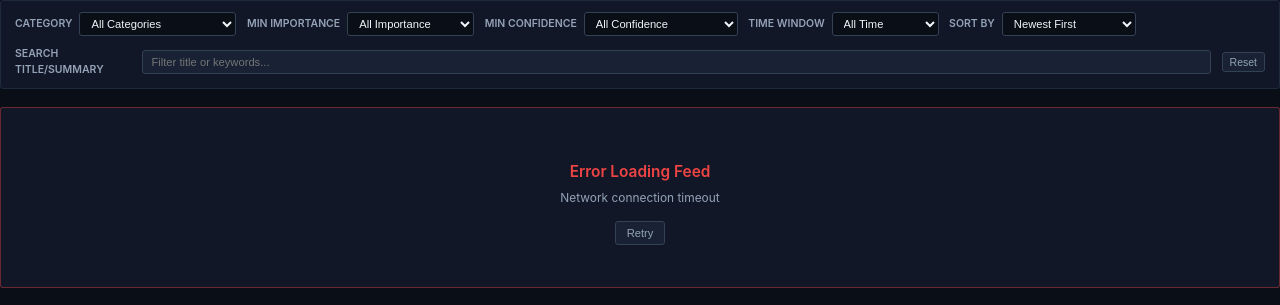
UI Resilience & State Tests › renders error state on API network failure and provides retry button
Expected: the text "Error Loading Feed" is shown, x1=570 y1=162 x2=710 y2=181
Expected: the text "Network connection timeout" is shown, x1=560 y1=190 x2=720 y2=205
Click the button "Retry". click: (640, 233)
box: x1=615 y1=221 x2=665 y2=245
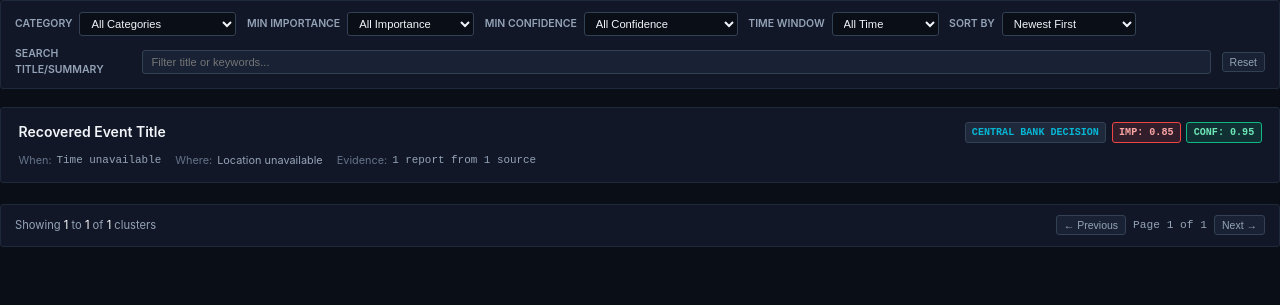
Expected: the heading "Recovered Event Title" is shown, x1=18 y1=122 x2=166 y2=142
